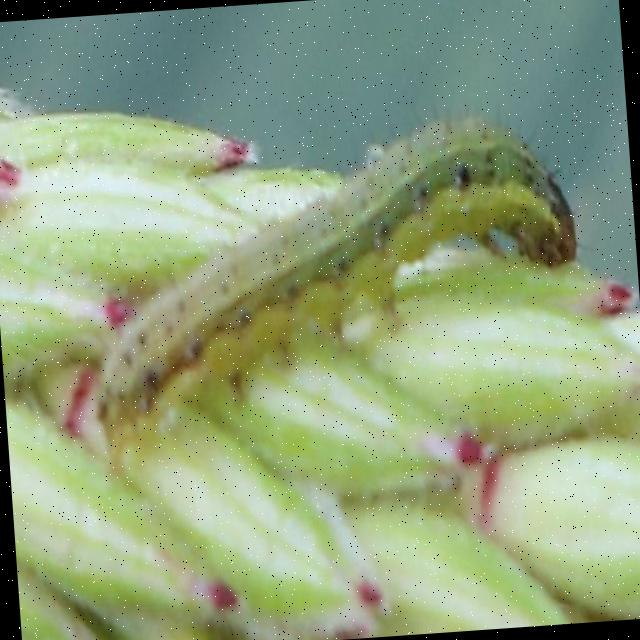worm: (1, 35, 640, 640), (75, 104, 593, 456)
